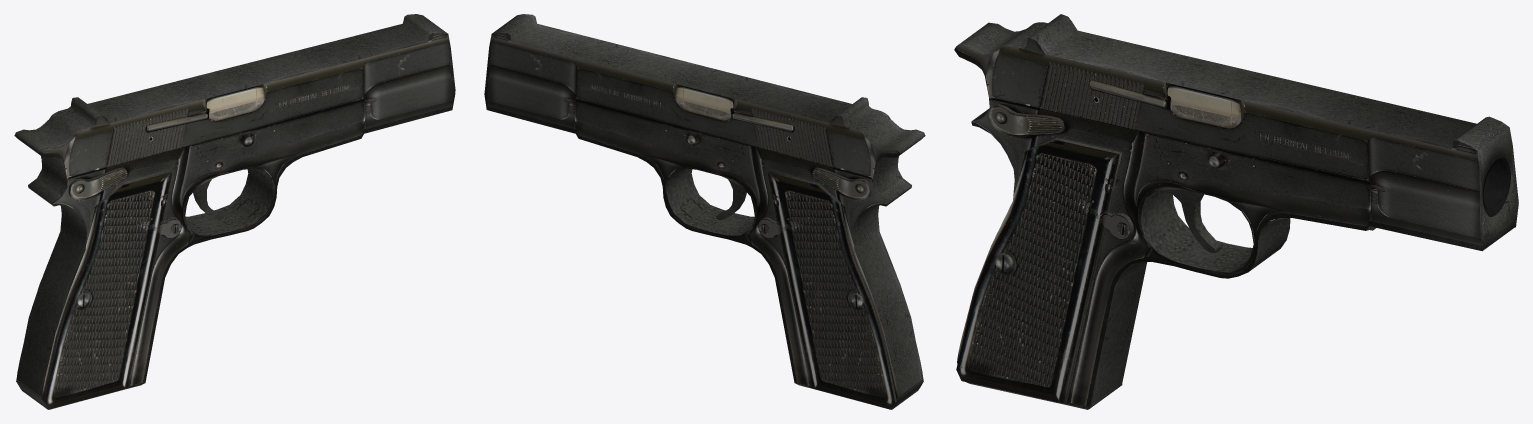
The model's file is gun1.glb.
The picture shows the model from 3 angles, left to right: view 1: azimuth 30°, elevation 25°; view 2: azimuth 150°, elevation 25°; view 3: azimuth 330°, elevation 25°; orthographic projection. The views are drawn at different scales.
Parts seen in each view (by area): view 1: Browning Hi-Power_0; view 2: Browning Hi-Power_0; view 3: Browning Hi-Power_0.
Part boxes in pixels (<box>): Browning Hi-Power_0: <box>14,14,455,409</box>; Browning Hi-Power_0: <box>484,14,925,409</box>; Browning Hi-Power_0: <box>954,14,1518,409</box>.
Size of the model in its own units: 1.27 by 0.8366 by 0.1672.
Materials: 3 (3 with a texture image).
